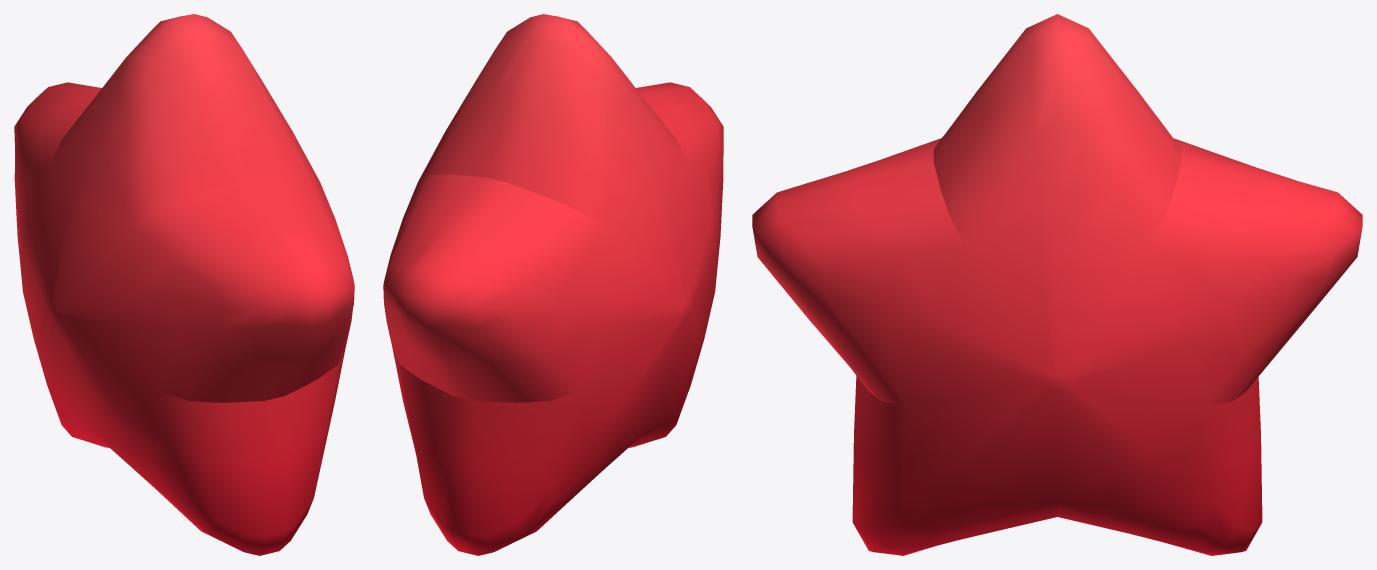
The model's file is Star_V1_00.fbx.
3 renders of one model, left to right at view 1: azimuth 30°, elevation 25°; view 2: azimuth 150°, elevation 25°; view 3: azimuth 270°, elevation 25°, orthographic. The views are drawn at different scales.
Parts seen in each view (by area): view 1: Star_V1_00; view 2: Star_V1_00; view 3: Star_V1_00.
Part boxes in pixels (left/top/right/bottom): Star_V1_00: left=14, top=14, right=354, bottom=555; Star_V1_00: left=383, top=14, right=723, bottom=555; Star_V1_00: left=752, top=14, right=1362, bottom=555.
Size of the model in its own units: 23.04 by 40.06 by 41.72.
